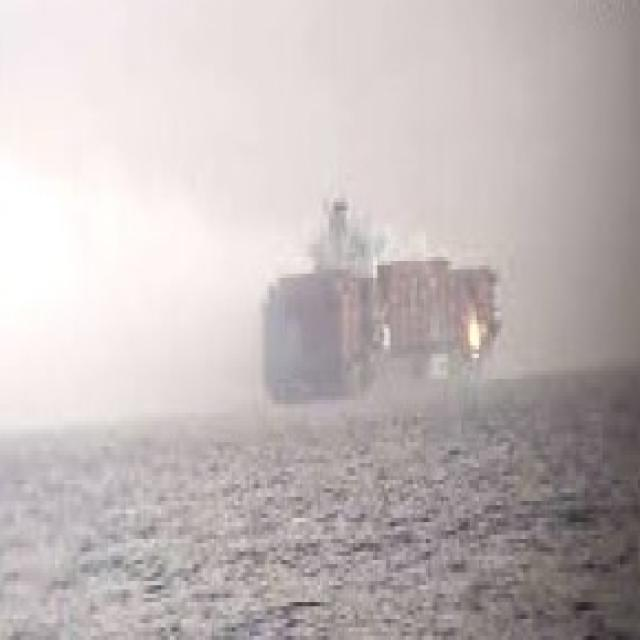cargoship: (267, 195, 510, 400)
